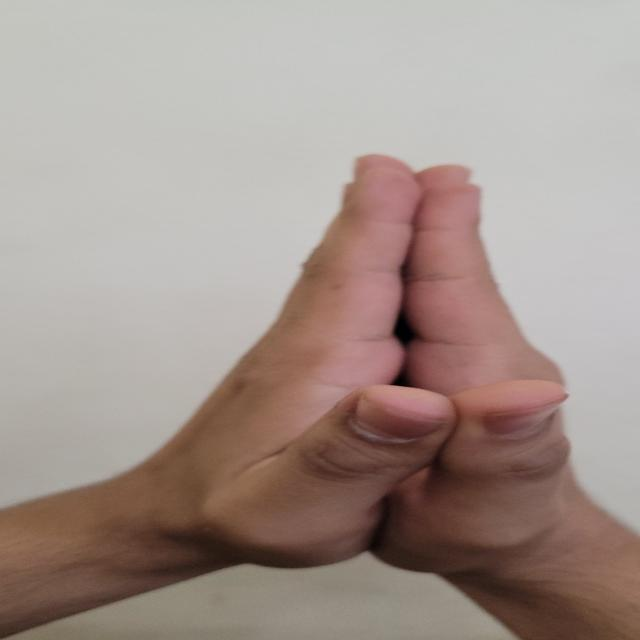Thank You: (153, 138, 632, 619)
